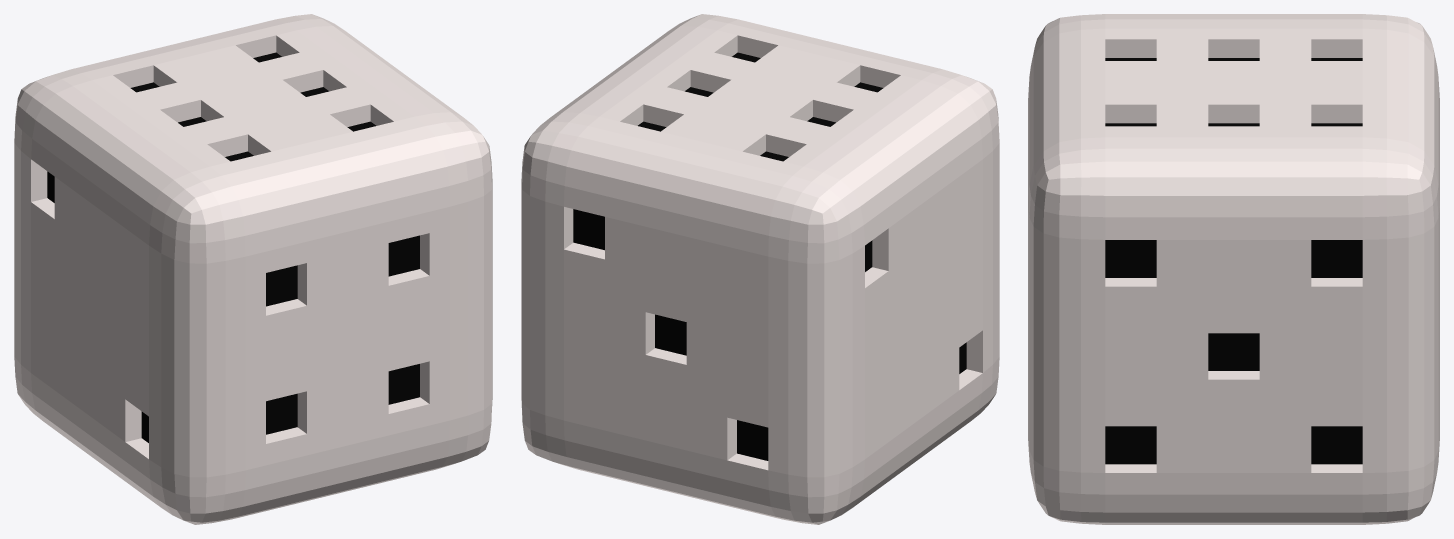
Rendered from playCube.fbx.
3 views of the same model, side by side, from view 1: azimuth 30°, elevation 25°; view 2: azimuth 150°, elevation 25°; view 3: azimuth 270°, elevation 25° (orthographic). The views are drawn at different scales.
Parts seen in each view (by area): view 1: Cube; view 2: Cube; view 3: Cube.
Part boxes in pixels (box(x1,y1,x2,y2)): Cube: box(14, 14, 492, 524); Cube: box(521, 14, 999, 524); Cube: box(1028, 14, 1439, 524).
Size of the model in its own units: 200 by 200 by 200.
